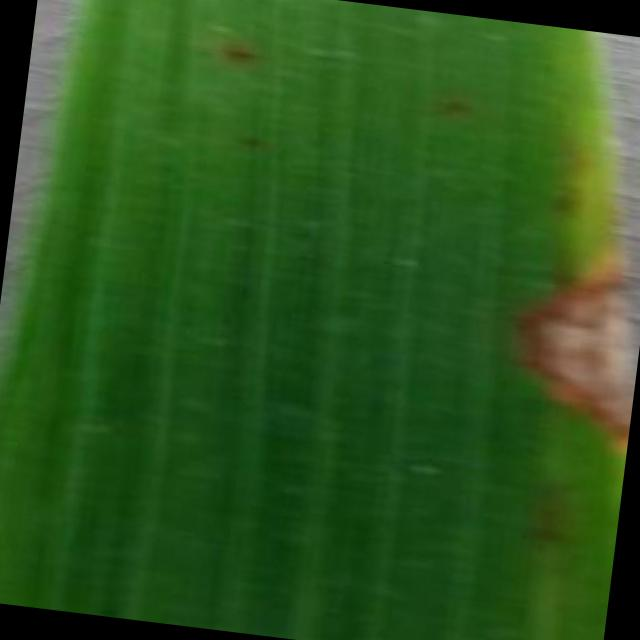Rice_Blast: (461, 220, 640, 471)
